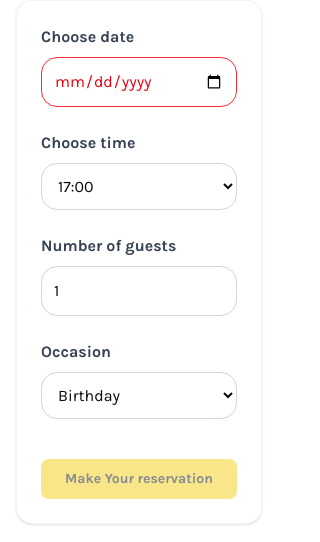
Test: BookingForm › Submit button is enabled when all fields are valid (Valid state)
// Simulate user selecting a date (other fields have valid defaults)
Type "2023-11-20" into the date field labelled "Choose date".
click(139, 82); type("2023-11-20")  # box [41,57,237,107]
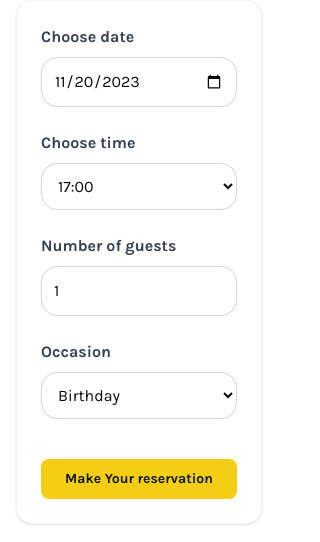
Now the button is enabled, box [41,459,237,499]
